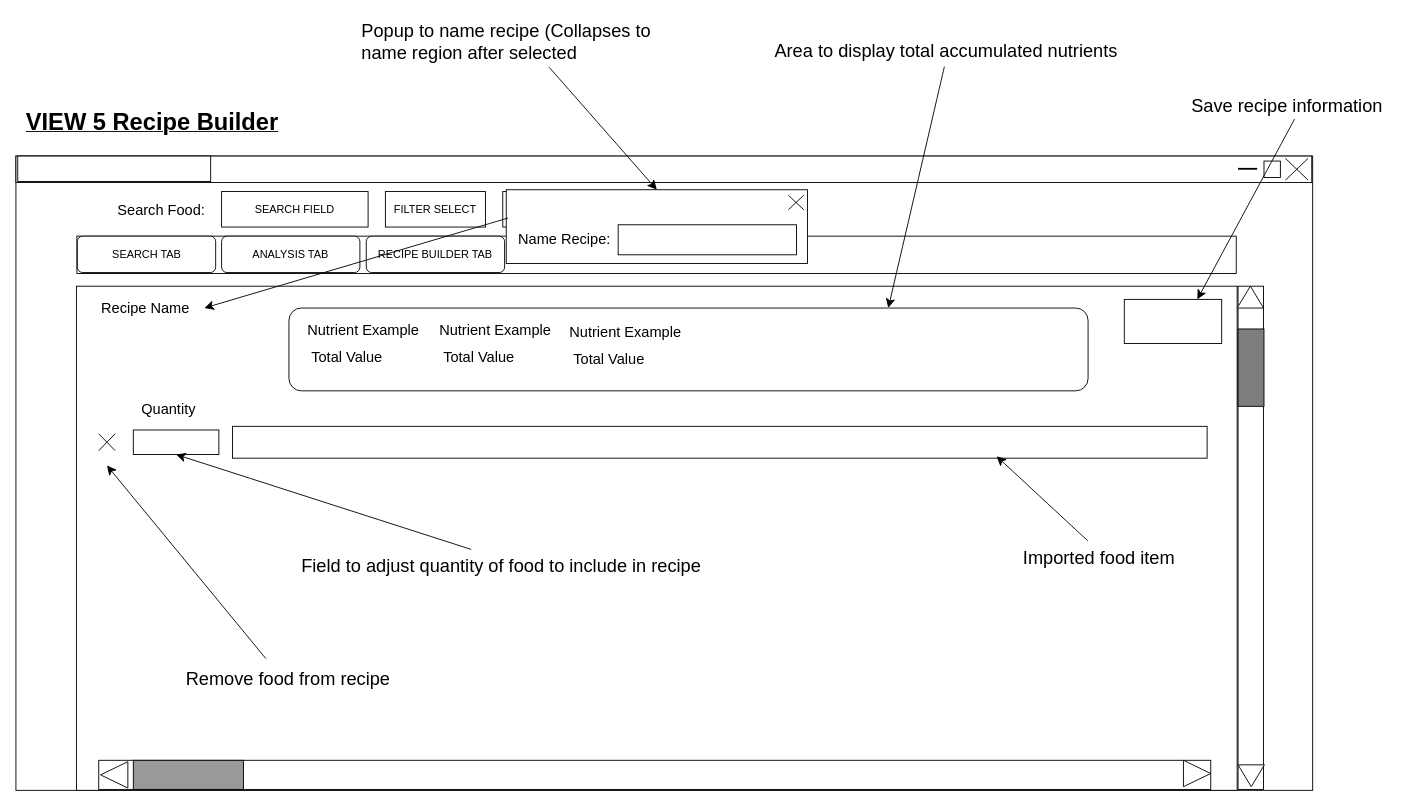
This 1413x806 diagram has some shape labels left out. The centre of each missing label's shape, as x and y in pixels:
"APP TITLE" goes at (x=114, y=168).
"EXAMPLE SELECTED FOOD FROM SEARCH" goes at (x=719, y=441).
"Save" goes at (x=1172, y=321).
